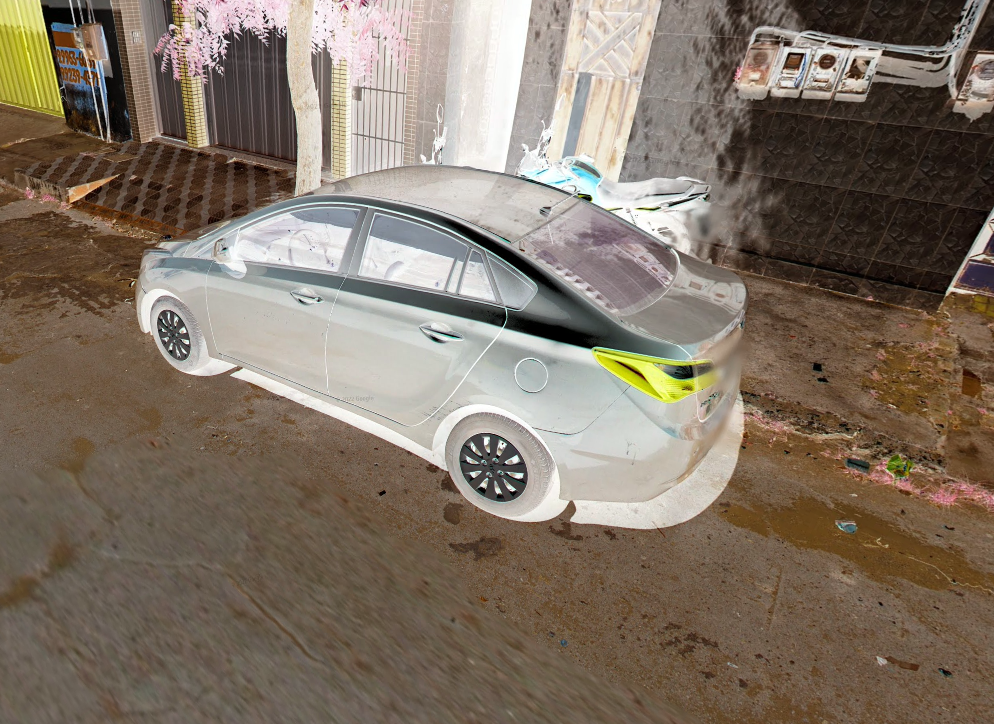car: (130, 161, 752, 529)
